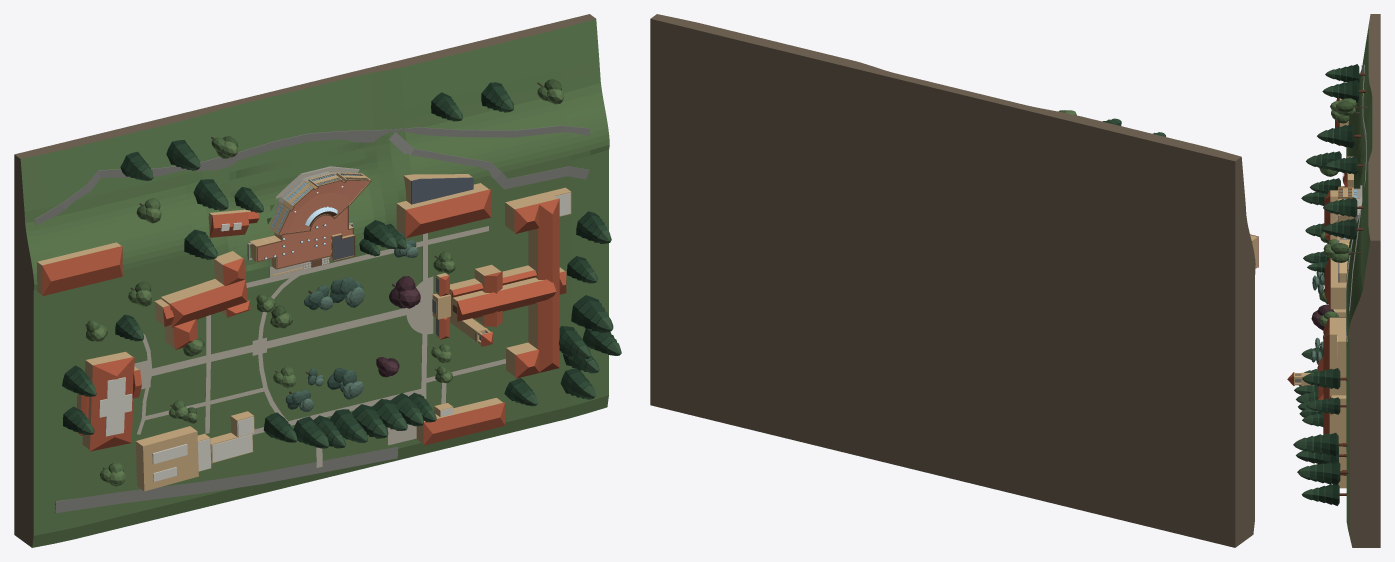
Rendered from mount_angel_library.obj.
3 views of the same model, side by side, from view 1: azimuth 30°, elevation 25°; view 2: azimuth 150°, elevation 25°; view 3: azimuth 270°, elevation 25° (orthographic). The views are drawn at different scales.
Size of the model in its own units: 347 by 219 by 60.6.
